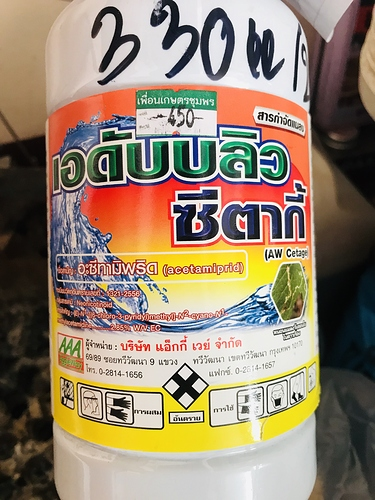Insecticide: (36, 1, 327, 500)
